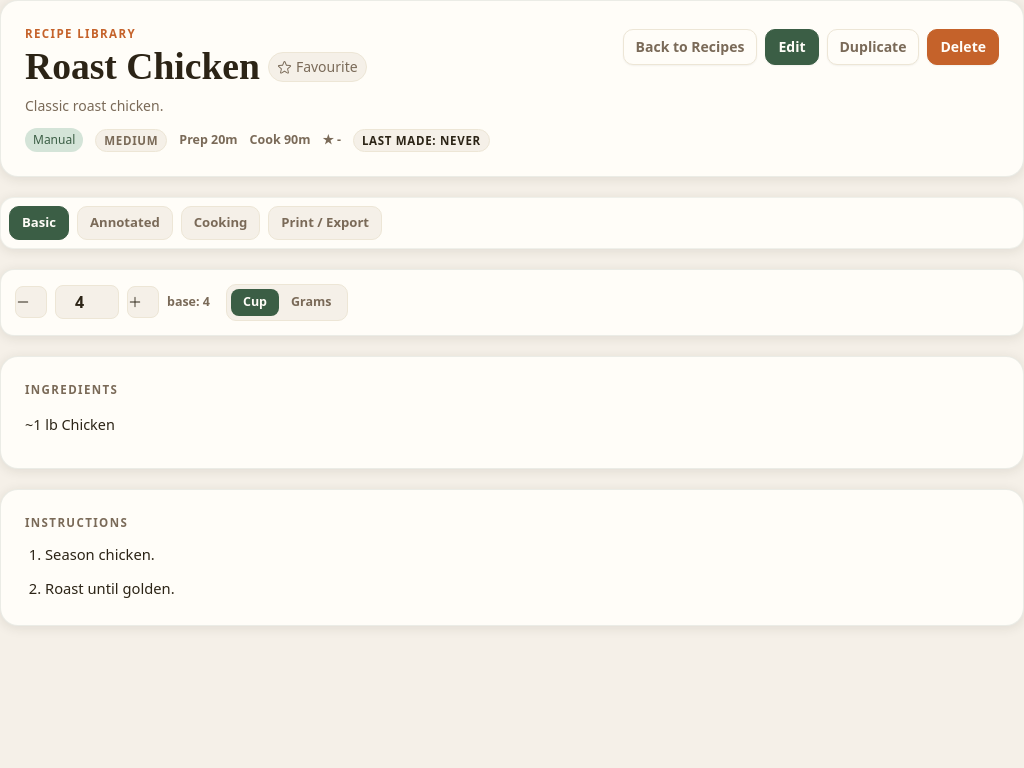
RecipeDetail duplicate draft flow › does not create a recipe when duplicate modal is closed without saving
Click the button "Duplicate" at (873,47), box [826,29,920,65]
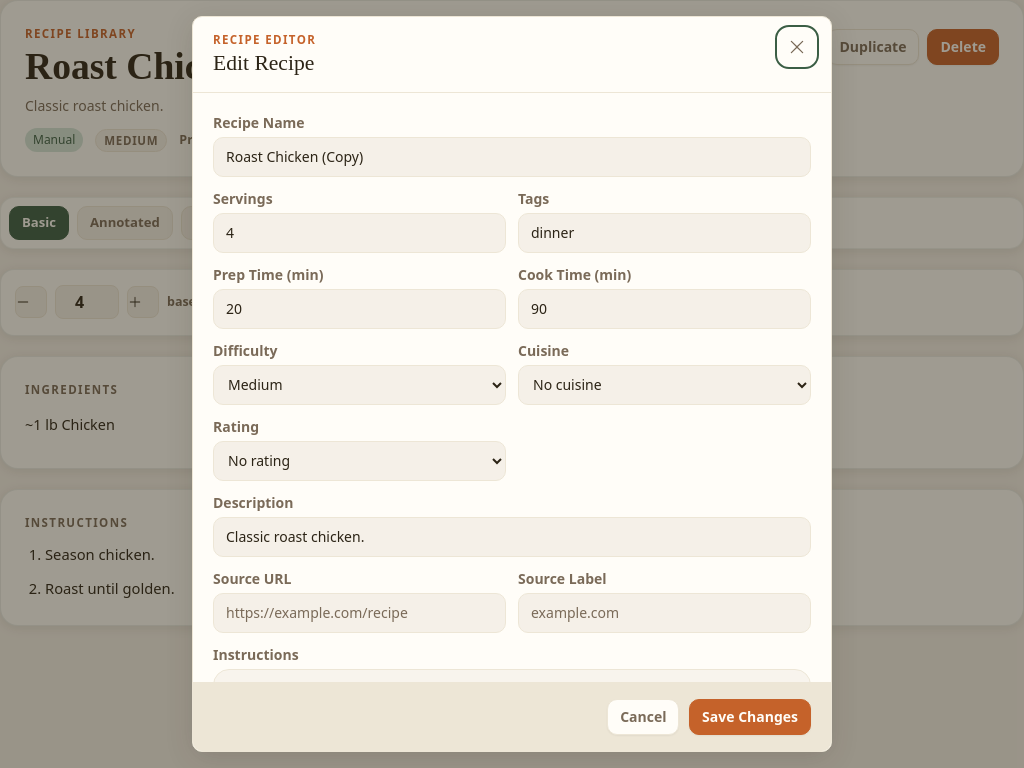
Click the button named "Close" at (797,47), box [779,29,815,65]
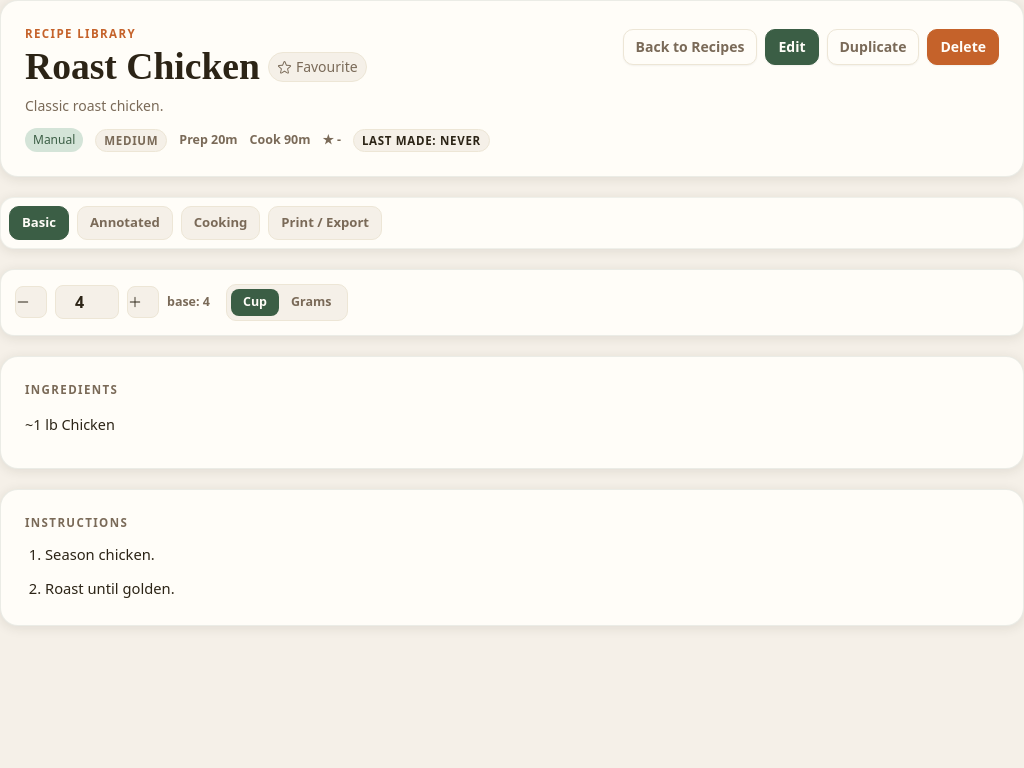
Check: the heading "Edit Recipe" is gone
